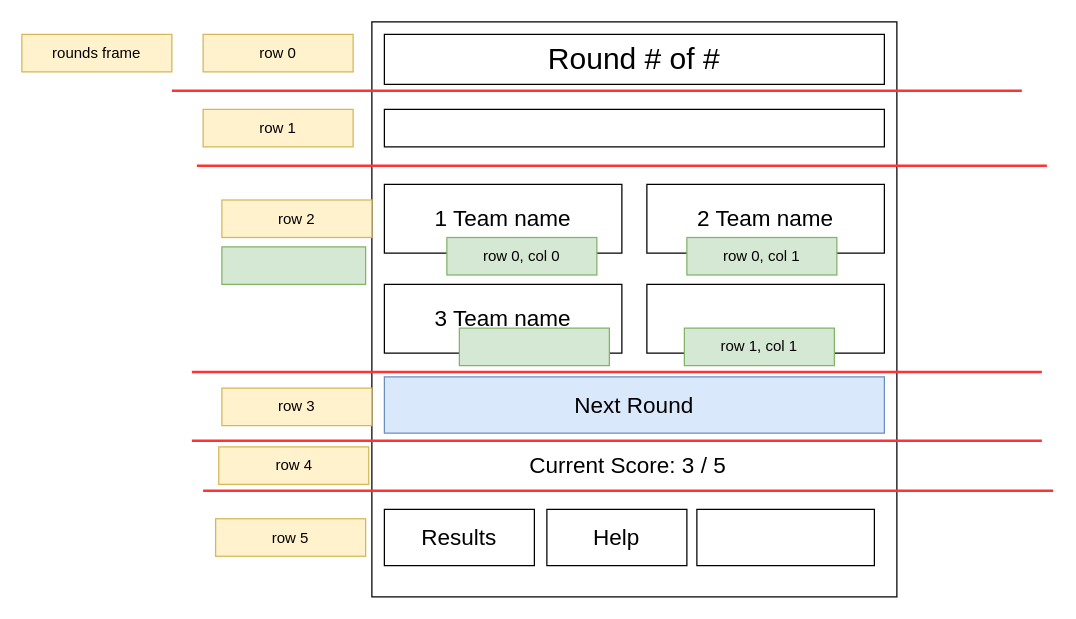
Image size: 1076x619. Some labels were removed from this diagram. Each missing label, with the box of its shape:
4 Team name: (646, 283, 884, 353)
ans_frame: (221, 246, 366, 284)
row 1, col 0: (458, 327, 609, 366)
Start Over: (696, 508, 874, 566)
What team does this mascot belong to( Mascot name )?: (383, 108, 884, 147)
